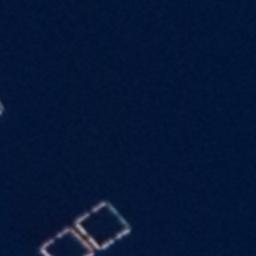square_solid: (70, 194, 137, 252), (35, 219, 101, 256)
